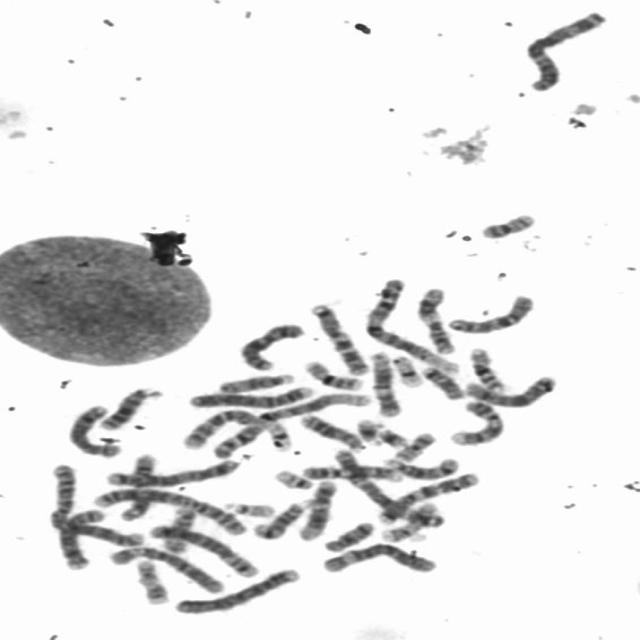A1: (207, 389, 373, 460), (360, 274, 464, 374)
A2: (44, 460, 147, 549), (84, 484, 250, 536)
A3: (329, 443, 447, 529), (518, 6, 609, 93)
B4: (170, 564, 304, 616), (184, 381, 317, 409)
B5: (144, 520, 262, 579), (102, 454, 244, 488)
C10: (442, 290, 538, 336), (175, 405, 264, 451)
C11: (115, 449, 162, 522), (413, 283, 459, 355)
C12: (294, 476, 340, 541), (365, 348, 405, 418)
C6: (102, 541, 227, 595), (317, 538, 441, 576)
C7: (369, 468, 482, 524), (305, 299, 371, 377)
C8: (52, 504, 109, 571), (62, 400, 123, 458)
C9: (444, 396, 508, 447), (299, 461, 407, 483)
D13: (95, 382, 165, 432), (294, 410, 369, 453)
D14: (248, 496, 312, 540), (378, 453, 462, 481)
D15: (156, 503, 200, 554), (213, 368, 296, 395)
E16: (298, 355, 366, 392), (464, 343, 510, 393)
E17: (374, 497, 442, 544), (130, 556, 172, 606)
E18: (320, 518, 378, 554), (417, 361, 468, 401)
F19: (387, 351, 425, 388), (261, 416, 295, 452)
F20: (475, 208, 539, 240), (388, 428, 439, 462)
G21: (369, 422, 412, 449), (352, 414, 386, 446)
G22: (218, 497, 278, 518), (269, 466, 317, 490)
X: (233, 318, 307, 372), (459, 370, 560, 409)
